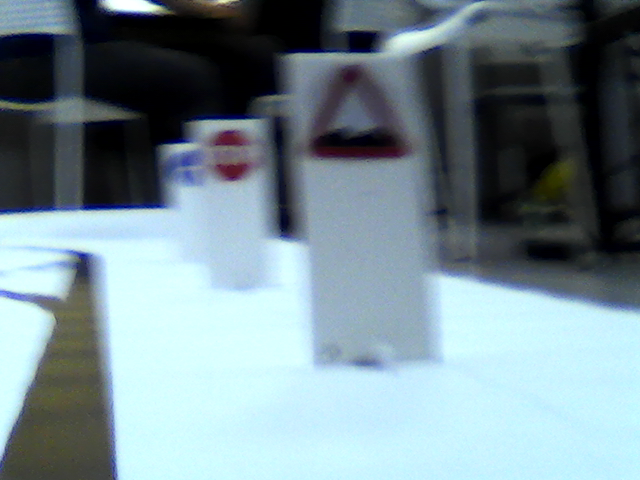Nerov: (307, 61, 411, 160)
Stop: (203, 128, 262, 182)
